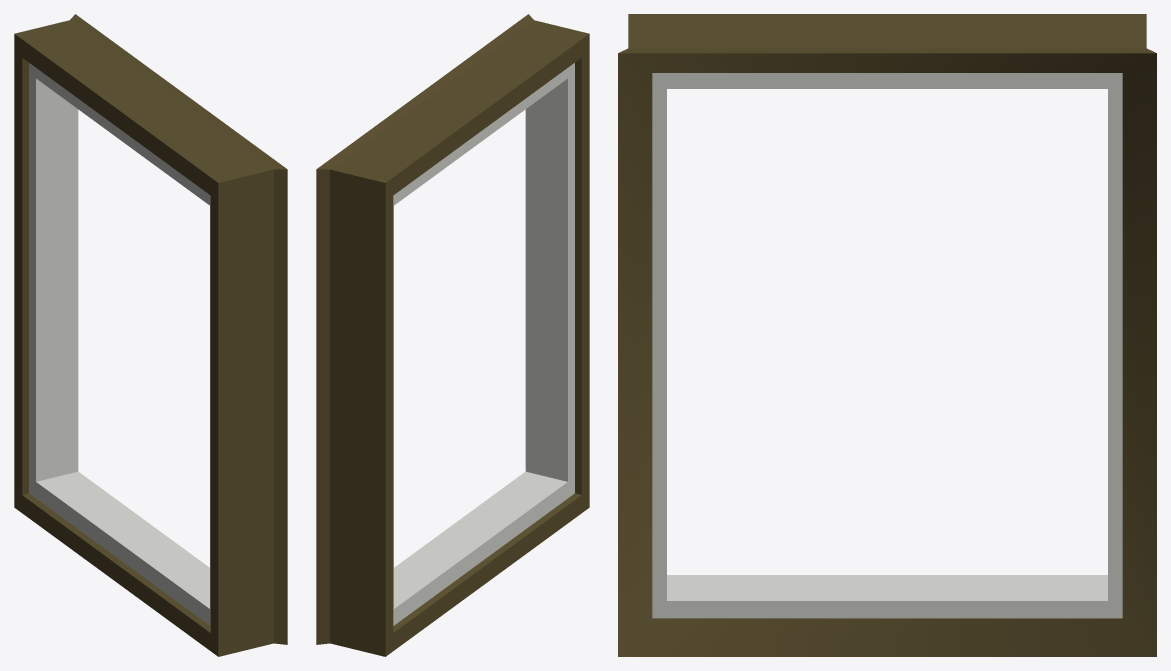
File: PhotoFrame.fbx
The picture shows the model from 3 angles, left to right: view 1: azimuth 30°, elevation 25°; view 2: azimuth 150°, elevation 25°; view 3: azimuth 270°, elevation 25°; orthographic projection. The views are drawn at different scales.
Parts seen in each view (by area): view 1: polySurface7; view 2: polySurface7; view 3: polySurface7.
Boxes of the visible parts, x1=… form: polySurface7: x1=14, y1=14, x2=287, y2=656; polySurface7: x1=316, y1=14, x2=589, y2=656; polySurface7: x1=618, y1=14, x2=1156, y2=656.
Bounding box in the file's own units: 1.4 × 9.77 × 7.9.
